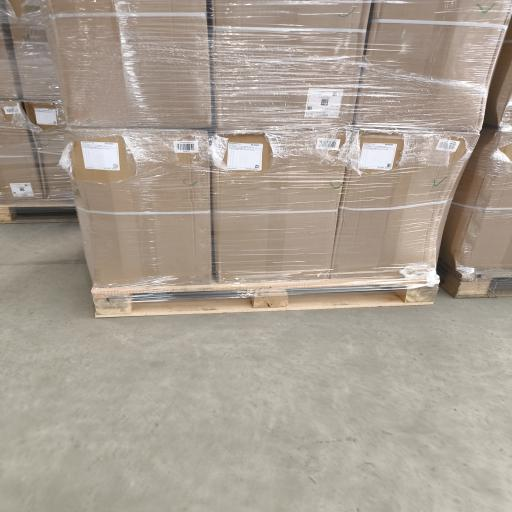pallet: (92, 279, 437, 317), (438, 260, 511, 298), (0, 200, 77, 223)
